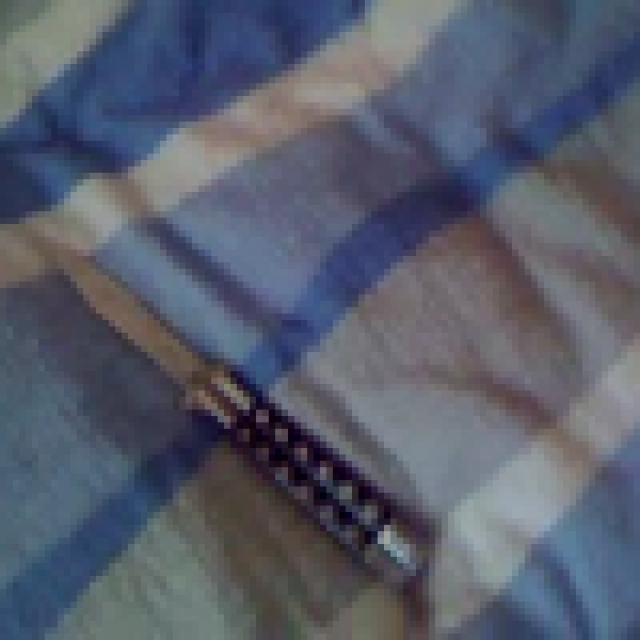weapon: (26, 218, 448, 595)
